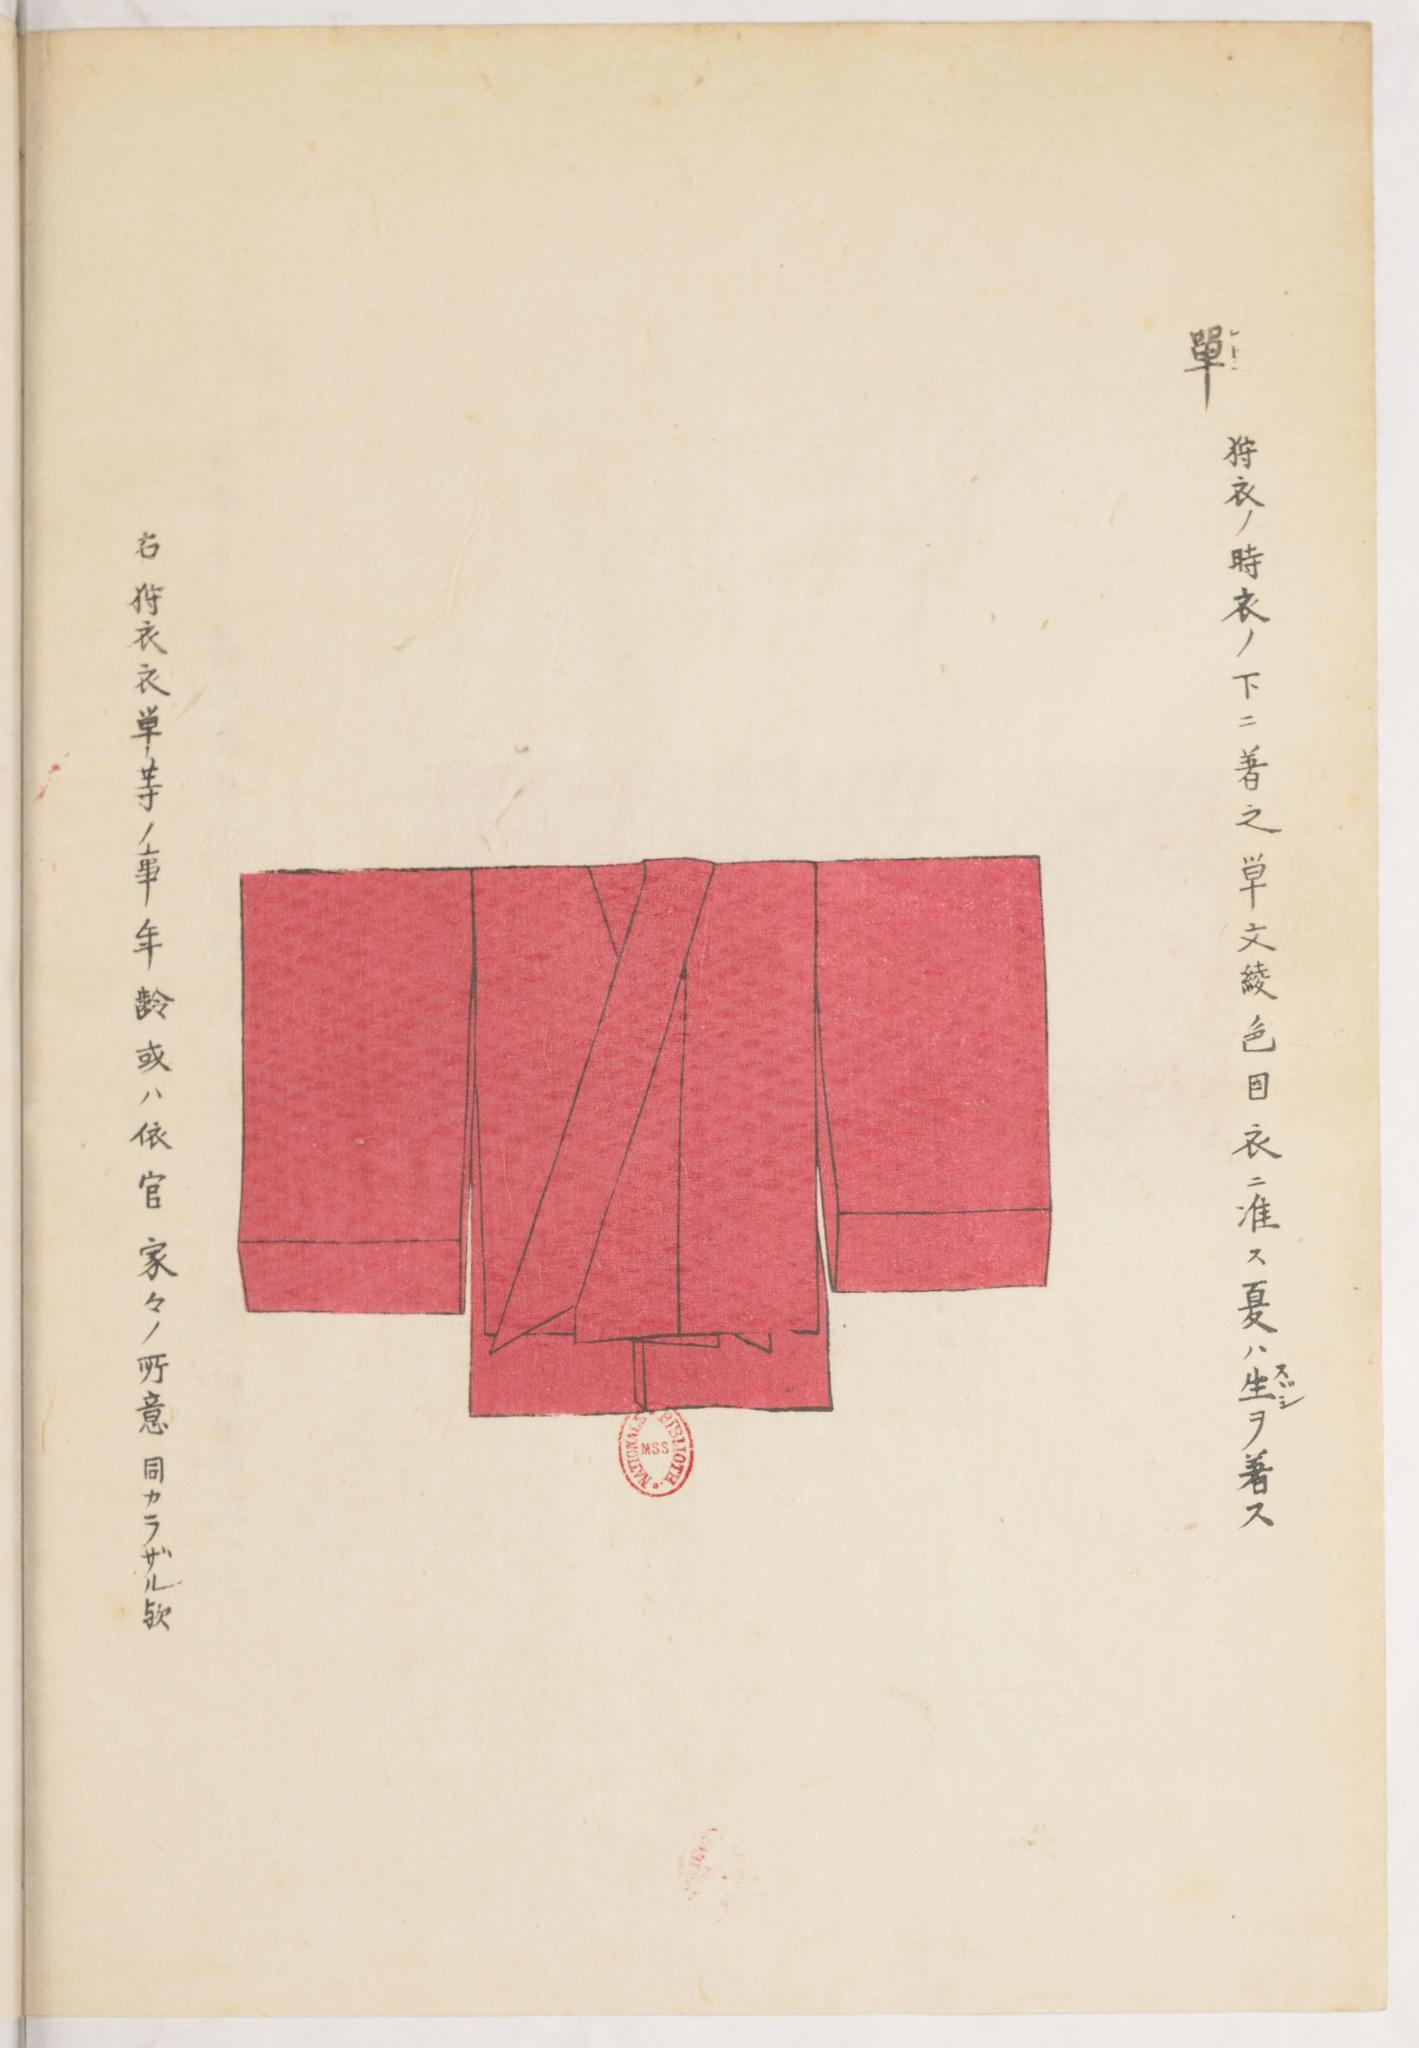MainZone-Character: (1179, 314, 1246, 395), (1234, 1357, 1312, 1412)
MainZone-Ruby: (1276, 1360, 1312, 1410), (1226, 321, 1246, 377)
